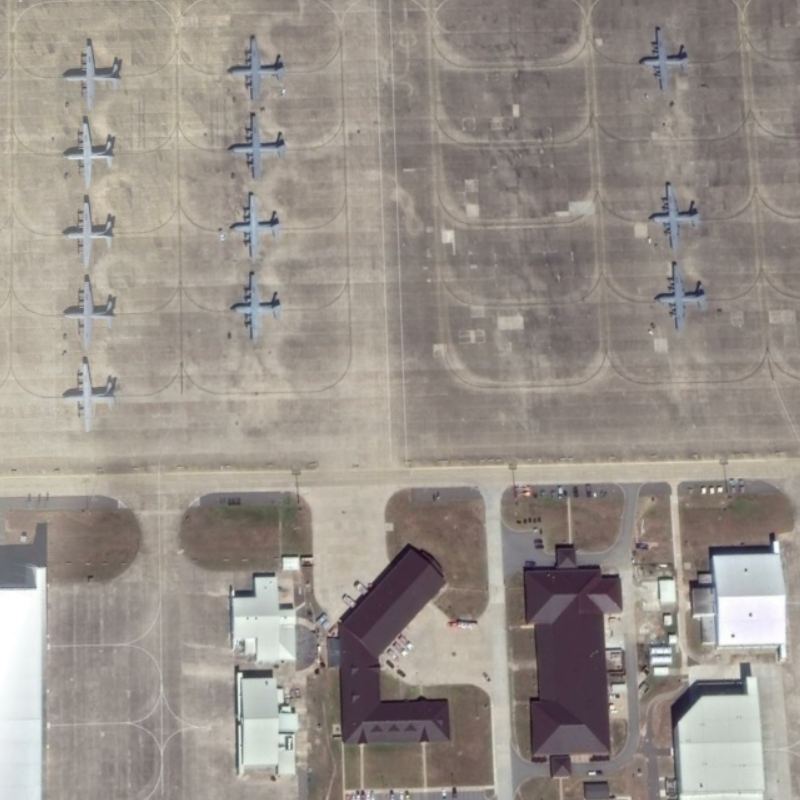A2: (54, 357, 120, 436), (222, 32, 291, 106), (59, 38, 125, 114), (225, 109, 290, 185), (225, 268, 286, 347), (650, 257, 711, 333), (646, 177, 706, 254), (56, 117, 117, 192), (64, 270, 117, 353), (60, 195, 118, 270), (226, 188, 282, 265), (635, 24, 693, 96)
